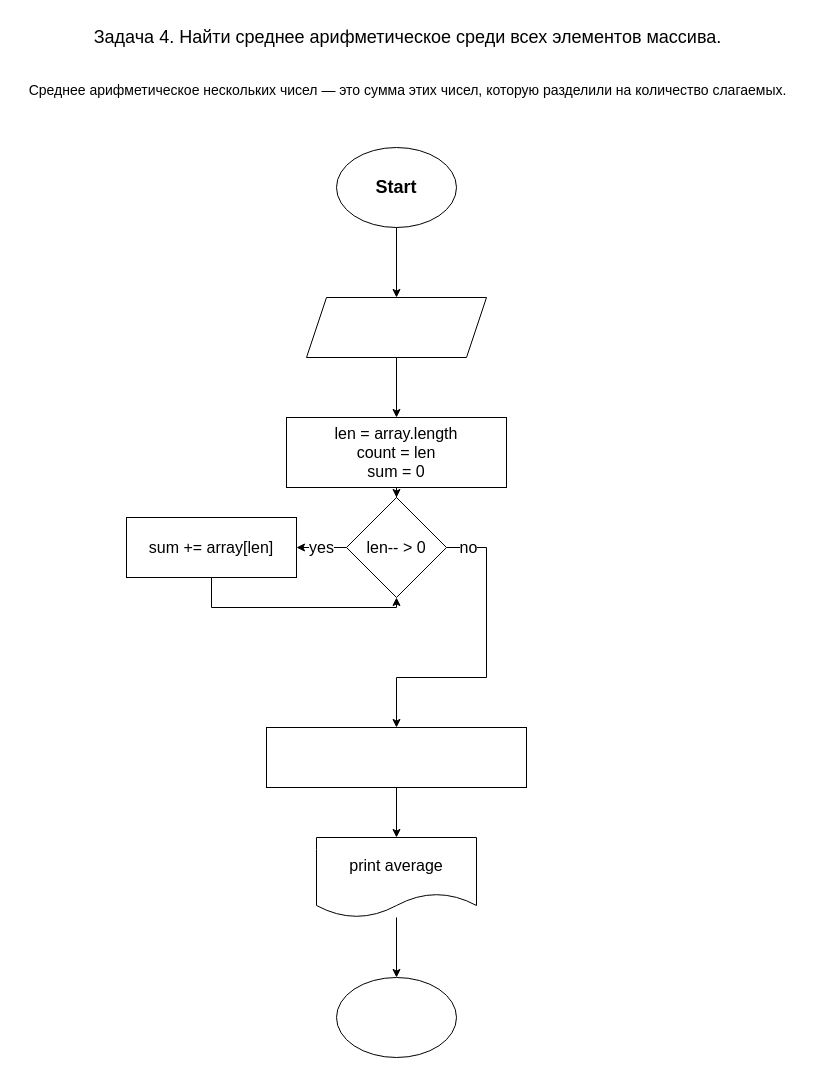
This 814x1075 diagram has some shape labels left out. Here are the shapes that lost their labels. From the top down, the box of each, then its label:
(306, 296, 486, 358): input array[]
(266, 726, 526, 788): average = sum / count
(336, 976, 456, 1058): Finish
